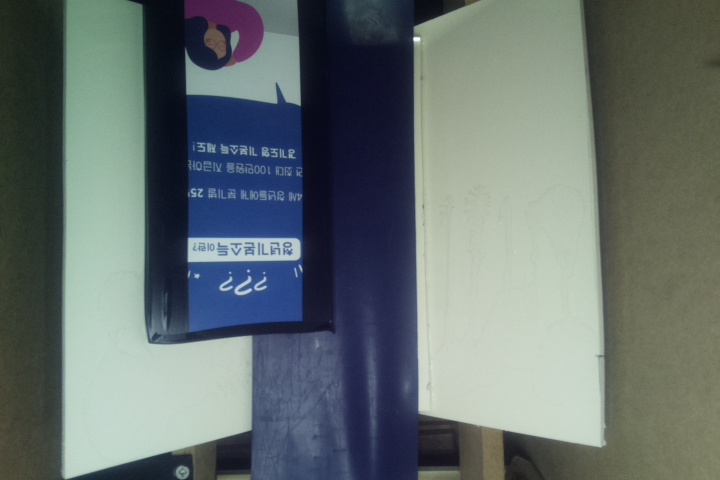book: (143, 1, 335, 345)
